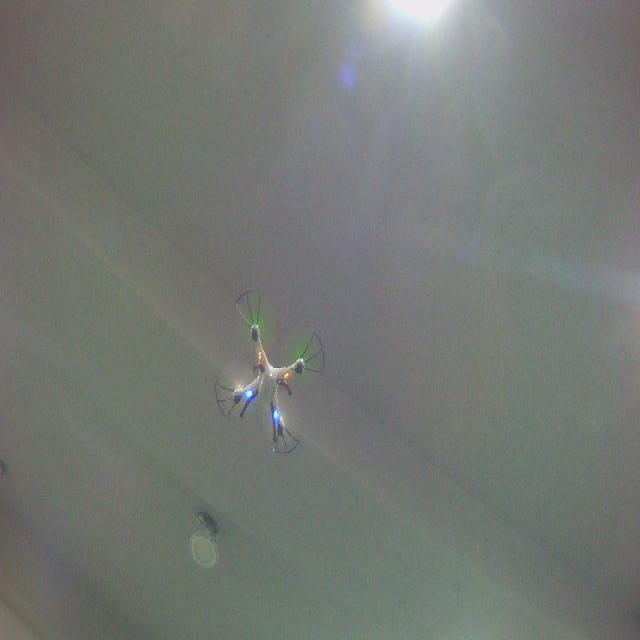drone: (212, 287, 326, 457)
